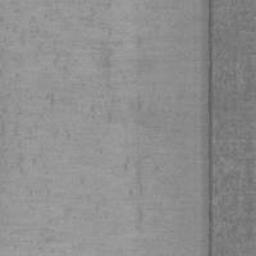Welding line: (205, 0, 214, 256)
